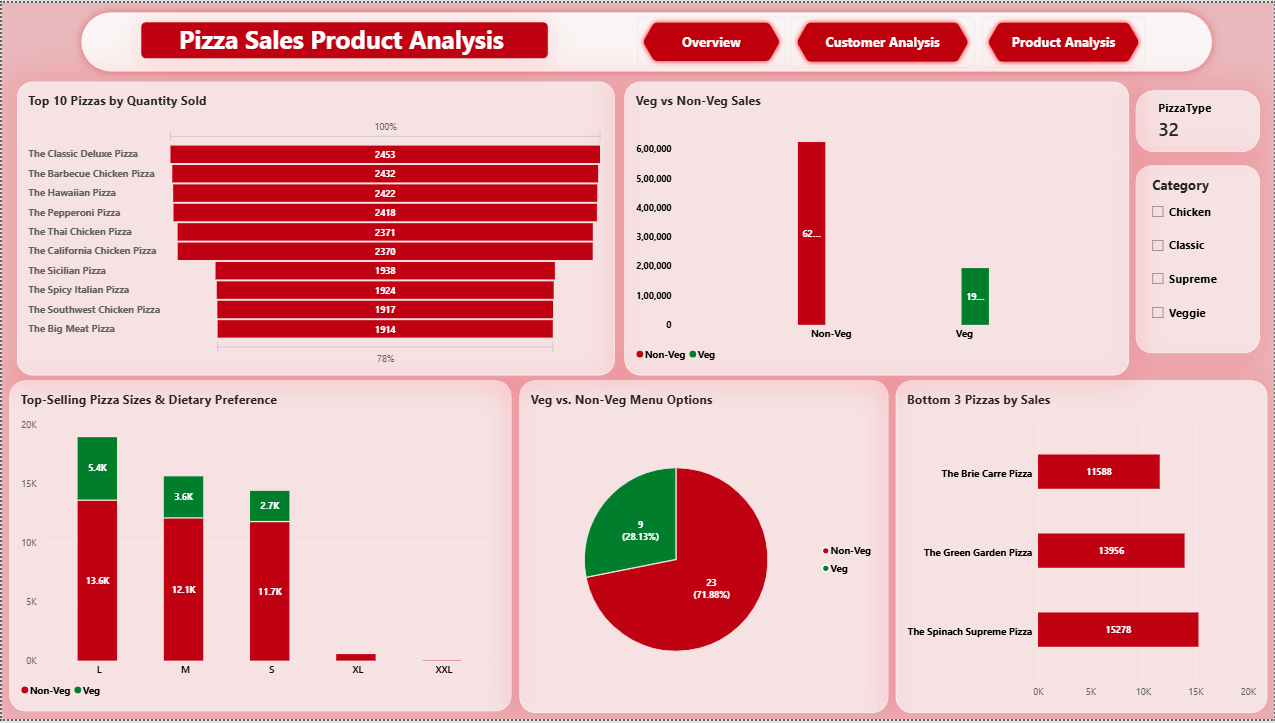

The page's visual inventory and layout, read from the dashboard file:
{"tool":"powerbi","page":{"name":"Product Analysis","canvas":[1920,1080],"ordinal":2},"visuals":[{"type":"shape","box":[106,0,1734.9,117.6],"z":0},{"type":"columnChart","title":"Top-Selling Pizza Sizes & Dietary Preference","fields":{"Category":["pizzas.size"],"Series":["pizza_types.Pizza Type"],"Y":["Sum(order_details.quantity)"]},"box":[11.6,570.6,757.6,499.3],"z":1000},{"type":"cardVisual","fields":{"Data":["pizza_types.PizzaCount"]},"box":[1711.8,133,187,92.5],"z":2000},{"type":"pieChart","title":"Veg vs. Non-Veg Menu Options","fields":{"Category":["pizza_types.Pizza Type"],"Y":["Count(pizza_types.name)"]},"box":[780.7,570.6,557.1,501.2],"z":3000},{"type":"actionButton","box":[958.1,21.2,225,76.2],"z":4000},{"type":"actionButton","box":[1191.3,21.2,277.6,77.1],"z":5000},{"type":"actionButton","box":[1478.6,21.2,246.7,77.1],"z":6000},{"type":"slicer","fields":{"Values":["pizza_types.category"]},"box":[1711.8,244.8,187,283.4],"z":7000},{"type":"funnel","title":"Top 10 Pizzas by Quantity Sold","fields":{"Category":["pizza_types.name"],"Y":["Sum(order_details.quantity)"]},"box":[23.1,119.5,902.2,443.4],"z":8000},{"type":"clusteredBarChart","title":"Bottom 3 Pizzas by Sales","fields":{"Category":["pizza_types.name"],"Y":["Sum(order_details.Amount)"]},"box":[1349.4,570.6,561,501.2],"z":9000},{"type":"clusteredColumnChart","title":"Veg vs Non-Veg Sales","fields":{"Category":["pizza_types.Pizza Type"],"Series":["pizza_types.Pizza Type"],"Y":["Sum(order_details.Amount)"]},"box":[938.8,119.5,761.4,443.4],"z":10000},{"type":"textbox","box":[210.1,28.9,614.9,55.9],"z":11000}]}

Visuals, with their boxes in screenshot pixels (x1, y1, x2, y2), scaled from the page's 1920x1080 canvas onto the 1275x723 screenshot:
shape: (70,0,1222,79)
"Top-Selling Pizza Sizes & Dietary Preference" columnChart: (8,382,511,716)
cardVisual - pizza_types.PizzaCount: (1137,89,1261,151)
"Veg vs. Non-Veg Menu Options" pieChart: (518,382,888,718)
actionButton: (636,14,786,65)
actionButton: (791,14,975,66)
actionButton: (982,14,1146,66)
slicer - pizza_types.category: (1137,164,1261,354)
"Top 10 Pizzas by Quantity Sold" funnel: (15,80,614,377)
"Bottom 3 Pizzas by Sales" clusteredBarChart: (896,382,1269,718)
"Veg vs Non-Veg Sales" clusteredColumnChart: (623,80,1129,377)
textbox: (140,19,548,57)
